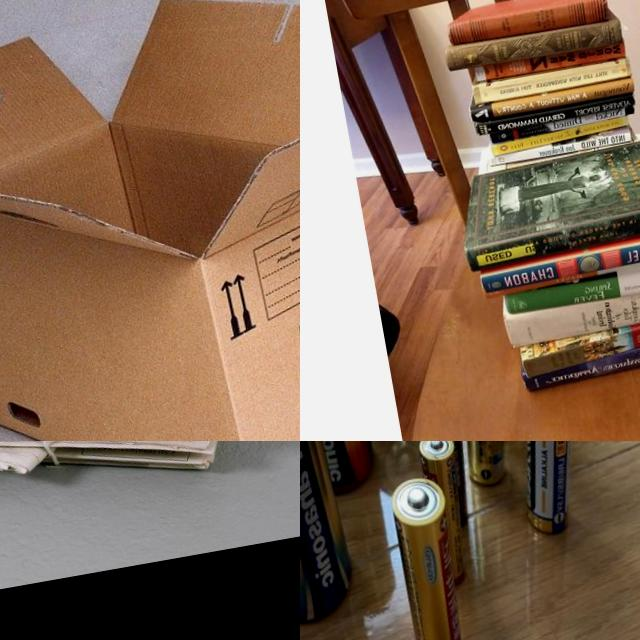bateria: (380, 465, 474, 640), (300, 441, 368, 640), (412, 441, 480, 598), (499, 441, 601, 543), (403, 441, 488, 537), (439, 441, 526, 488)
garrafa plástica: (0, 0, 300, 441)
papel: (421, 0, 640, 401), (0, 441, 284, 531)
